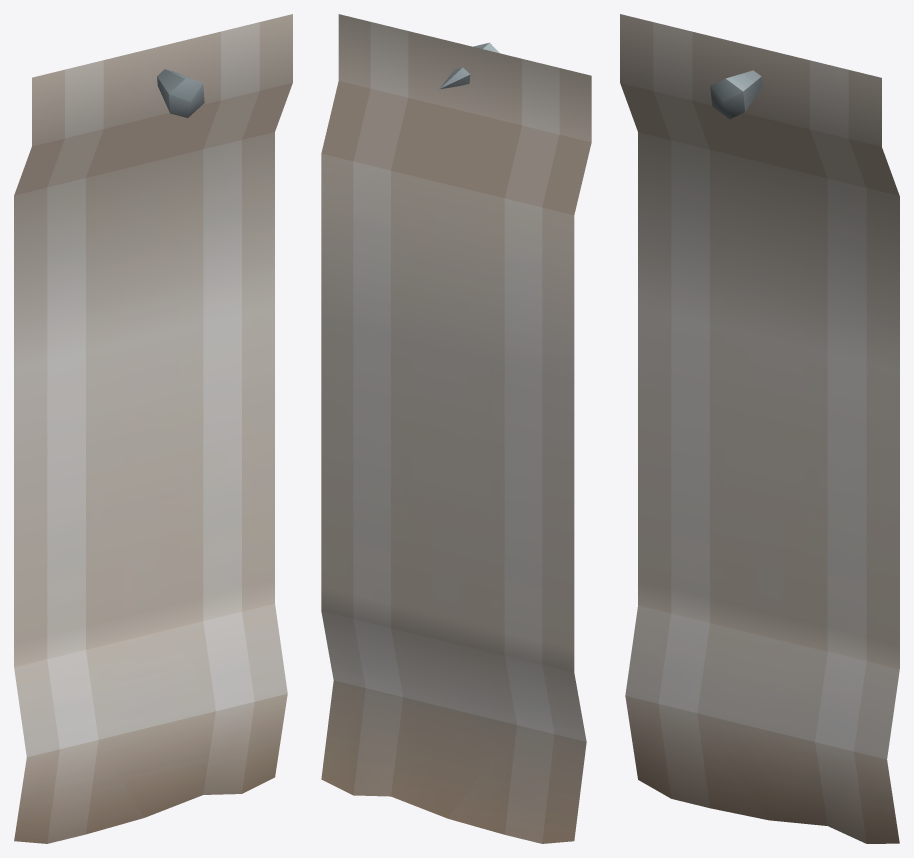
Rendered from banner_thin_white.glb.
The picture shows the model from 3 angles, left to right: view 1: azimuth 30°, elevation 25°; view 2: azimuth 150°, elevation 25°; view 3: azimuth 330°, elevation 25°; orthographic projection. The views are drawn at different scales.
Parts seen in each view (by area): view 1: banner_thin_white; view 2: banner_thin_white; view 3: banner_thin_white.
Boxes of the visible parts, box(x1,y1,x2,y2) form: banner_thin_white: box(14, 14, 292, 843); banner_thin_white: box(321, 14, 591, 843); banner_thin_white: box(620, 14, 899, 843).
Size of the model in its own units: 1.1 by 3.17 by 0.3623.
1 material, 1 textured.
